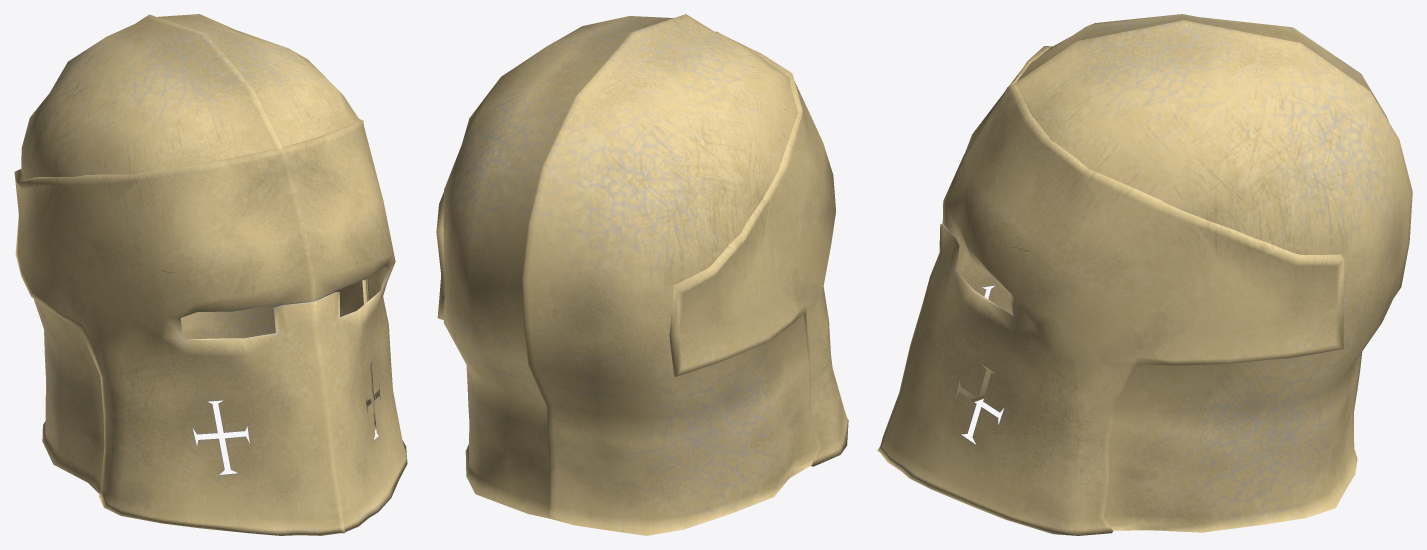
File: elm_gold.glb
The picture shows the model from 3 angles, left to right: view 1: azimuth 30°, elevation 25°; view 2: azimuth 150°, elevation 25°; view 3: azimuth 270°, elevation 25°; orthographic projection. The views are drawn at different scales.
Parts seen in each view (by area): view 1: rig; view 2: rig; view 3: rig.
Boxes of the visible parts, x1,y1,x2,y2 form: rig: [14, 14, 407, 535]; rig: [436, 14, 848, 535]; rig: [877, 14, 1412, 535].
Size of the model in its own units: 17.17 by 22.36 by 24.42.
1 material, 1 textured.
